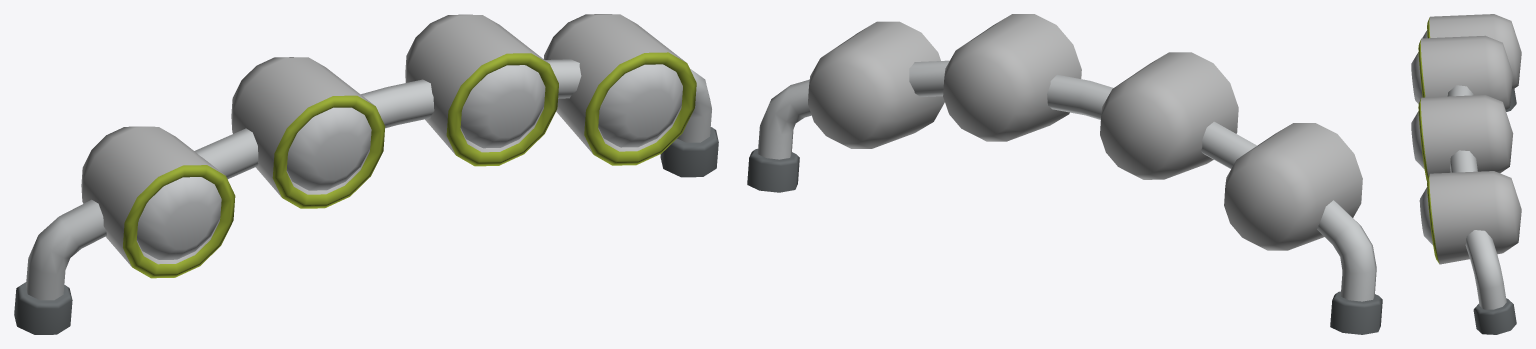
The model's file is Car_15_FogLight.fbx.
3 renders of one model, left to right at view 1: azimuth 30°, elevation 25°; view 2: azimuth 150°, elevation 25°; view 3: azimuth 270°, elevation 25°, orthographic. The views are drawn at different scales.
Parts seen in each view (by area): view 1: Car_15_FogLight; view 2: Car_15_FogLight; view 3: Car_15_FogLight.
Boxes of the visible parts, x1,y1,x2,y2 form: Car_15_FogLight: (14,14,718,334); Car_15_FogLight: (747,14,1382,334); Car_15_FogLight: (1411,14,1521,334).
Size of the model in its own units: 97.9 by 19.31 by 28.83.
